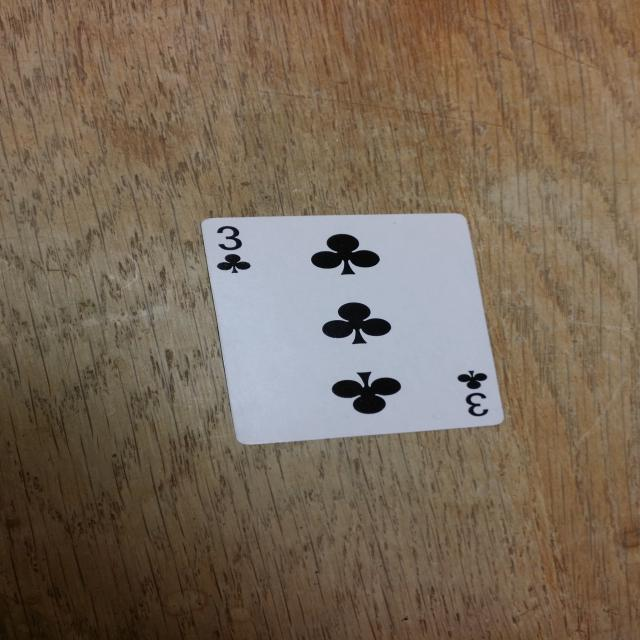7c: (202, 218, 265, 281), (442, 365, 504, 422)
